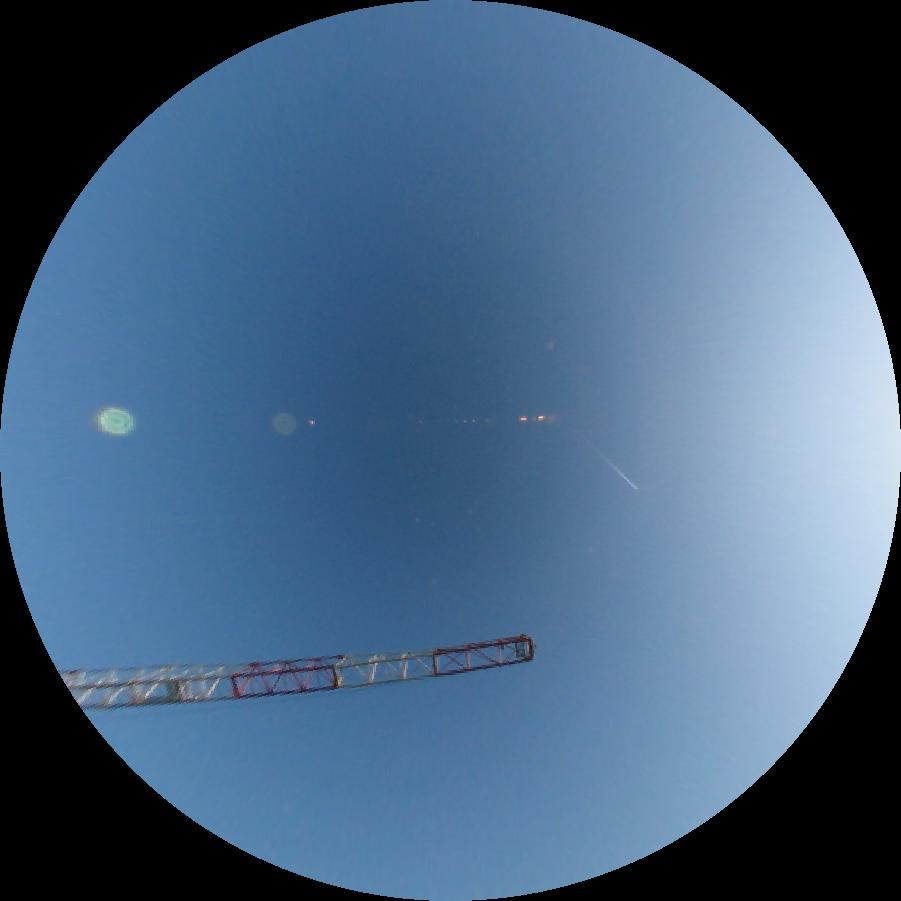contrail young: (588, 445, 639, 490)
